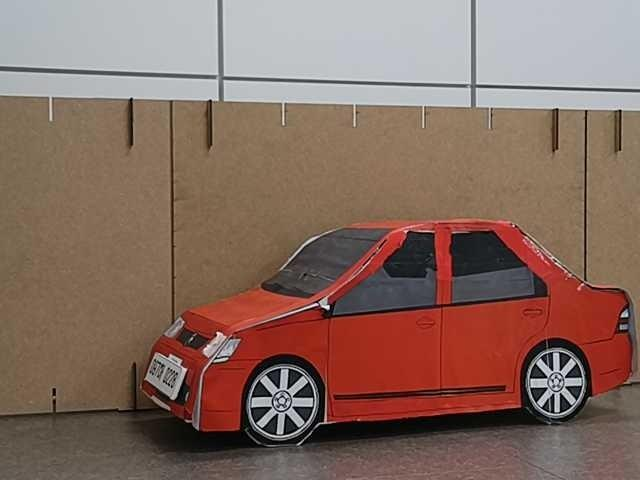car: (138, 217, 636, 449)
id: (143, 353, 185, 405)
